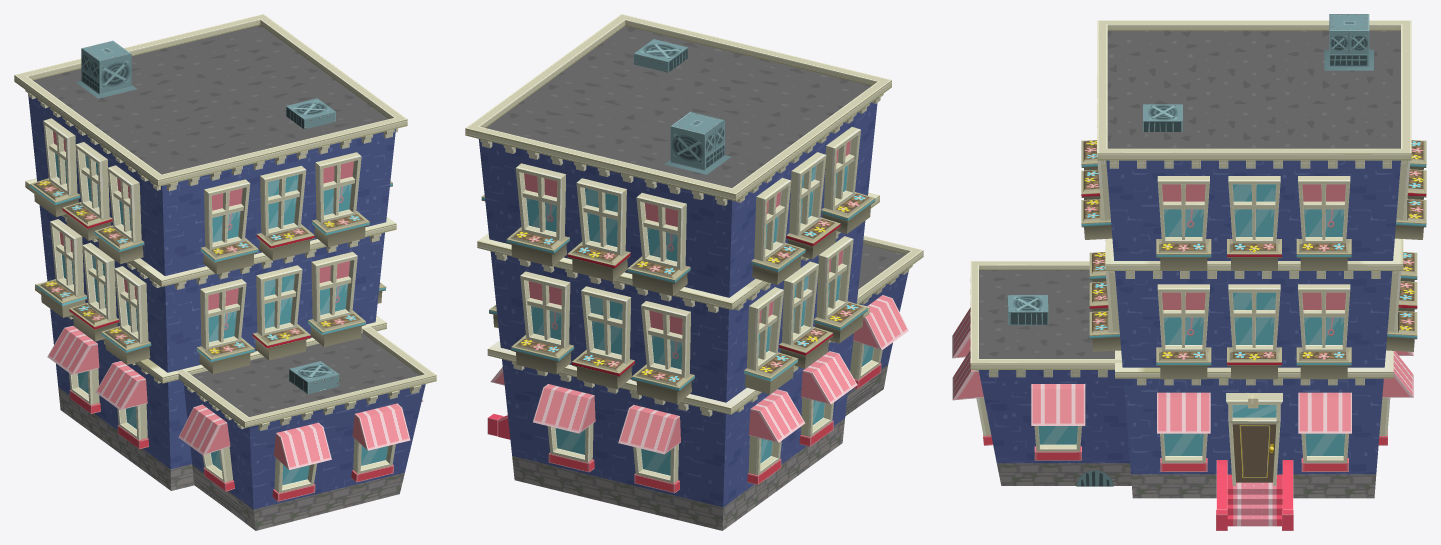
File: low_poly_building.glb
3 renders of one model, left to right at view 1: azimuth 30°, elevation 25°; view 2: azimuth 150°, elevation 25°; view 3: azimuth 270°, elevation 25°, orthographic. The views are drawn at different scales.
Parts seen in each view (by area): view 1: pCube31, pCube15, pCube2, pCube28, pCube26 (×5), pCube3 (×4), pCube11 (×4), pCube7 (×4), pCube12 (×4), pCube4 (×4), pCube8 (×4), pCube25 (×5) (+5 smaller); view 2: pCube15, pCube31, pCube26 (×5), pCube3 (×4), pCube7 (×4), pCube11 (×4), pCube4 (×4), pCube8 (×4), pCube12 (×4), pCube25 (×5), pCube43, pCube28 (+4 smaller); view 3: pCube15, pCube31, pCube28, pCube2, pCube26 (×6), pCube11 (×4), pCube3 (×4), pCube7 (×2), pCube8 (×6), pCube4 (×4), pCube12 (×4), pCube18 (+9 smaller).
Boxes of the visible parts, x1=… form: pCube31: x1=14, y1=14, x2=407, y2=186; pCube15: x1=28, y1=96, x2=395, y2=490; pCube2: x1=183, y1=383, x2=425, y2=530; pCube28: x1=176, y1=326, x2=436, y2=427; pCube26 (×5): x1=47, y1=326, x2=410, y2=469; pCube3 (×4): x1=43, y1=118, x2=250, y2=349; pCube11 (×4): x1=107, y1=152, x2=361, y2=342; pCube7 (×4): x1=75, y1=142, x2=306, y2=336; pCube12 (×4): x1=94, y1=211, x2=369, y2=364; pCube4 (×4): x1=30, y1=178, x2=258, y2=373; pCube8 (×4): x1=62, y1=202, x2=314, y2=360; pCube25 (×5): x1=69, y1=368, x2=395, y2=493; pCube15: x1=478, y1=102, x2=877, y2=530; pCube31: x1=465, y1=14, x2=891, y2=201; pCube26 (×5): x1=533, y1=295, x2=908, y2=454; pCube3 (×4): x1=515, y1=163, x2=791, y2=370; pCube7 (×4): x1=576, y1=152, x2=826, y2=363; pCube11 (×4): x1=636, y1=127, x2=860, y2=377; pCube4 (×4): x1=506, y1=227, x2=805, y2=394; pCube8 (×4): x1=567, y1=217, x2=840, y2=389; pCube12 (×4): x1=627, y1=192, x2=875, y2=403; pCube25 (×5): x1=547, y1=341, x2=882, y2=483; pCube43: x1=664, y1=111, x2=731, y2=174; pCube28: x1=857, y1=235, x2=923, y2=304; pCube15: x1=1106, y1=160, x2=1400, y2=498; pCube31: x1=1097, y1=20, x2=1411, y2=160; pCube28: x1=970, y1=261, x2=1121, y2=369; pCube2: x1=978, y1=370, x2=1131, y2=485; pCube26 (×6): x1=952, y1=307, x2=1413, y2=433; pCube11 (×4): x1=1097, y1=135, x2=1350, y2=351; pCube3 (×4): x1=1157, y1=160, x2=1410, y2=351; pCube7 (×2): x1=1228, y1=176, x2=1280, y2=351; pCube8 (×6): x1=1081, y1=169, x2=1426, y2=379; pCube4 (×4): x1=1156, y1=199, x2=1426, y2=379; pCube12 (×4): x1=1081, y1=199, x2=1351, y2=379; pCube18: x1=1226, y1=393, x2=1282, y2=485.
Bounding box in the file's own units: 5.44 × 6.35 × 6.95.
14 materials, 14 textured.
